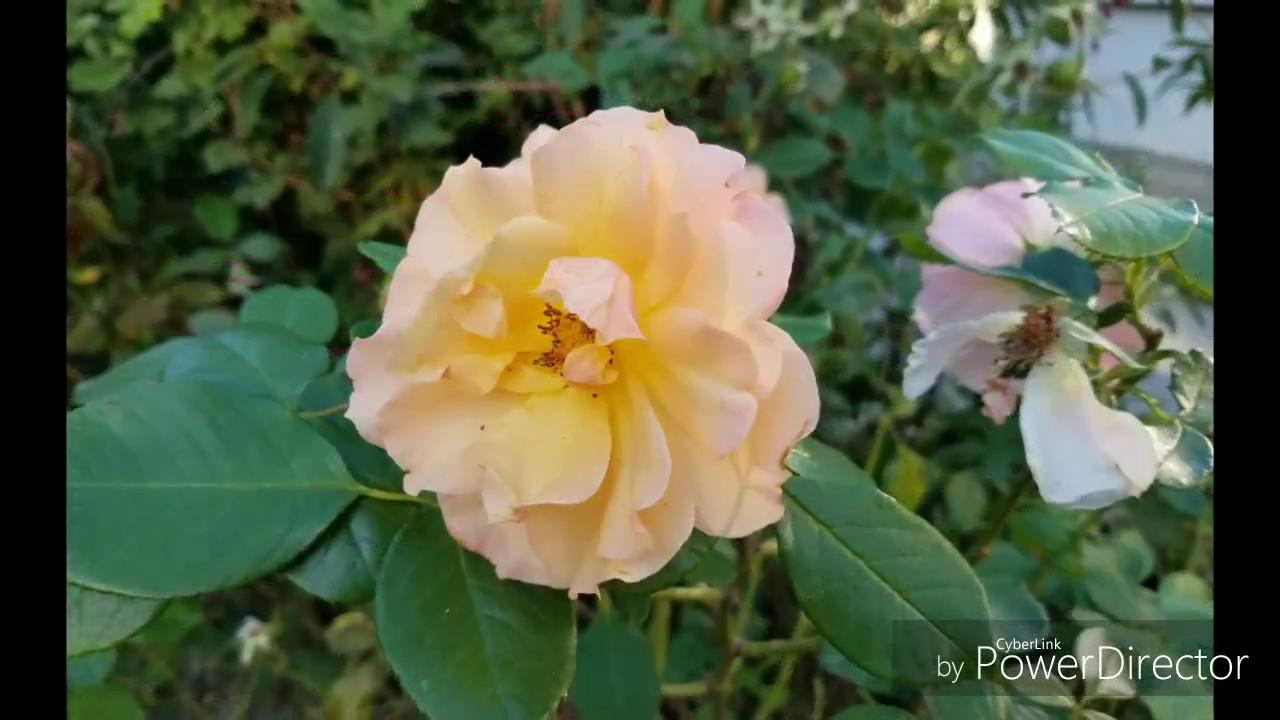Rose: (366, 109, 843, 583)
